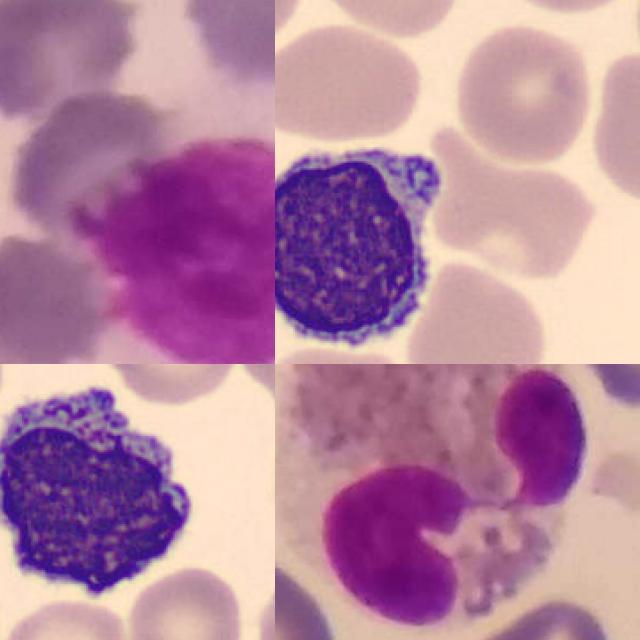Eosinophil: (280, 364, 592, 630)
Lymphocyte: (0, 367, 207, 605), (275, 131, 449, 356)
Monocyte: (86, 131, 275, 364)
RBC: (450, 19, 594, 169), (275, 18, 426, 145), (403, 256, 552, 364), (123, 561, 249, 640), (588, 45, 640, 218), (95, 364, 248, 406), (0, 594, 137, 640), (309, 0, 465, 39)
